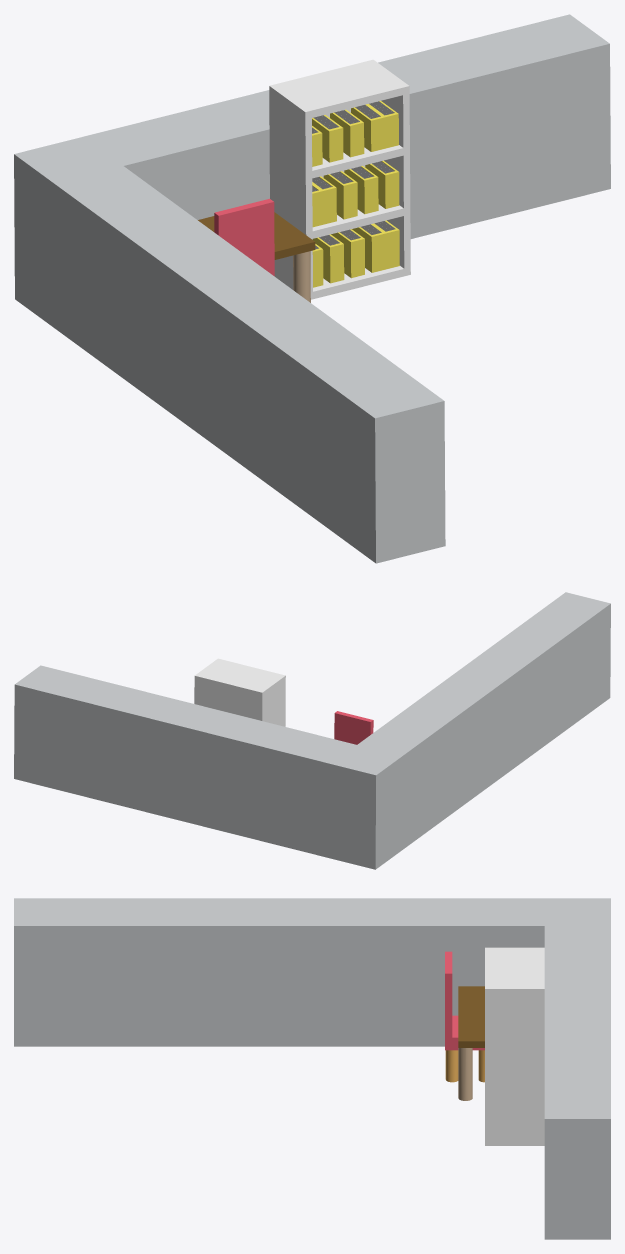
3 views of the same model, one above another, from view 1: azimuth 30°, elevation 25°; view 2: azimuth 150°, elevation 25°; view 3: azimuth 270°, elevation 25° (orthographic). The views are drawn at different scales.
Parts seen in each view (by area): view 1: Object_2, Object_7, Object_8, Object_5, Object_4, Object_3; view 2: Object_2, Object_7, Object_5; view 3: Object_2, Object_7, Object_4, Object_5, Object_3, Object_6.
Part boxes in pixels (x1=…): Object_2: x1=14, y1=14, x2=610, y2=563; Object_7: x1=269, y1=59, x2=410, y2=299; Object_8: x1=312, y1=101, x2=399, y2=287; Object_5: x1=214, y1=198, x2=274, y2=276; Object_4: x1=198, y1=212, x2=315, y2=259; Object_3: x1=293, y1=251, x2=310, y2=302; Object_2: x1=14, y1=592, x2=610, y2=869; Object_7: x1=194, y1=658, x2=285, y2=726; Object_5: x1=334, y1=711, x2=373, y2=744; Object_2: x1=14, y1=898, x2=610, y2=1239; Object_7: x1=485, y1=947, x2=544, y2=1145; Object_4: x1=458, y1=986, x2=484, y2=1047; Object_5: x1=445, y1=951, x2=484, y2=1050; Object_3: x1=458, y1=1048, x2=472, y2=1100; Object_6: x1=445, y1=1050, x2=484, y2=1082.
Size of the model in its own units: 5.76 by 1.89 by 6.47.
